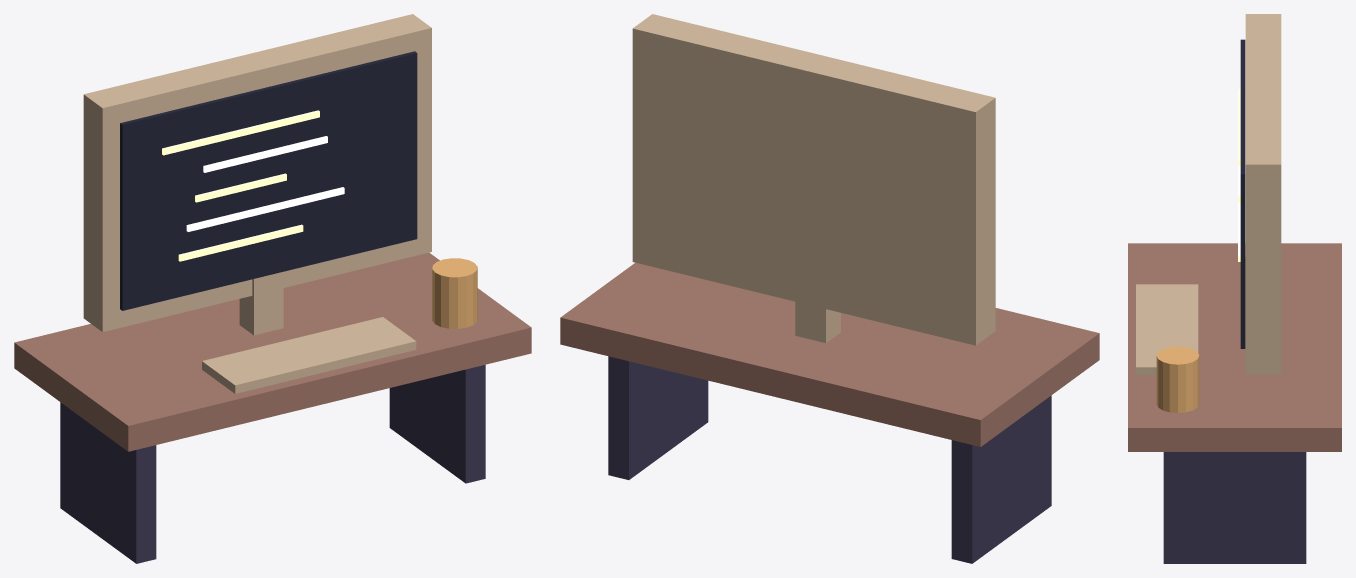
Rendered from frontend-e2485323da9e.glb.
3 renders of one model, left to right at view 1: azimuth 30°, elevation 25°; view 2: azimuth 150°, elevation 25°; view 3: azimuth 270°, elevation 25°, orthographic. The views are drawn at different scales.
Visible parts, largest first — view 1: display, desk, monitor, leg, leg.001, keyboard, coffee, screen_stand, code_line.003, code_line, code_line.004, code_line.001 (+1 smaller); view 2: monitor, desk, leg, leg.001, screen_stand; view 3: desk, leg.001, monitor, keyboard, coffee, display.
Part boxes in pixels (x1,y1,x2,y2): display: [120, 51, 417, 310]; desk: [14, 252, 531, 451]; monitor: [83, 14, 431, 332]; leg: [60, 402, 156, 563]; leg.001: [389, 364, 485, 483]; keyboard: [202, 317, 416, 393]; coffee: [432, 258, 477, 328]; screen_stand: [239, 271, 283, 335]; code_line.003: [186, 187, 344, 231]; code_line: [162, 110, 319, 155]; code_line.004: [178, 224, 303, 261]; code_line.001: [203, 136, 327, 172]; monitor: [632, 14, 995, 345]; desk: [560, 262, 1099, 446]; leg: [951, 395, 1051, 563]; leg.001: [608, 356, 708, 479]; screen_stand: [795, 301, 840, 342]; desk: [1128, 243, 1341, 451]; leg.001: [1163, 452, 1306, 563]; monitor: [1245, 14, 1281, 374]; keyboard: [1136, 284, 1198, 375]; coffee: [1156, 346, 1199, 412]; display: [1240, 39, 1245, 348].
Bounding box in the file's own units: 2.45 × 2.44 × 1.2.
